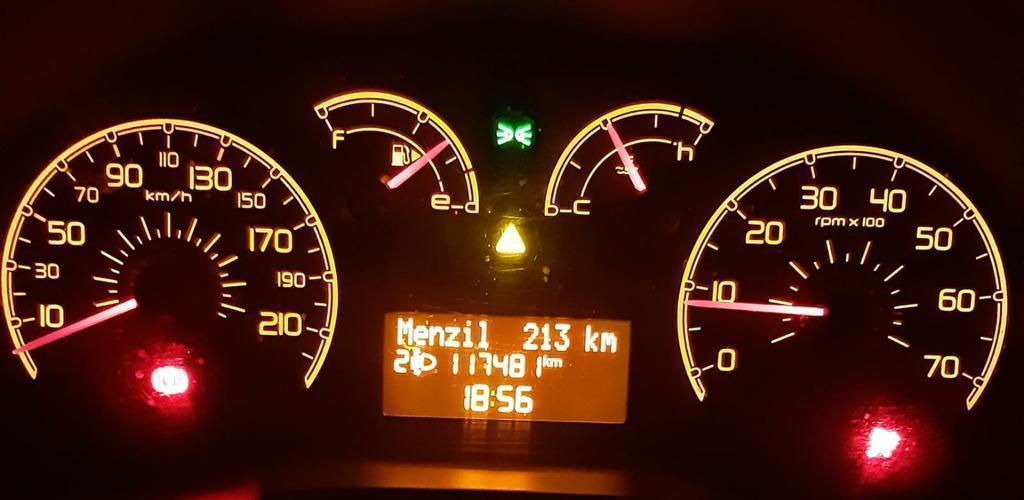1: (540, 321, 552, 352), (449, 351, 461, 376), (461, 383, 470, 411), (466, 350, 475, 376), (533, 354, 542, 378)
2: (520, 321, 539, 351), (391, 348, 409, 374)
3: (553, 321, 571, 352)
4: (492, 353, 508, 377)
5: (496, 383, 514, 414)
6: (515, 384, 534, 414)
7: (477, 350, 492, 377)
8: (470, 382, 489, 412), (509, 352, 525, 378)
X: (394, 314, 413, 346), (582, 322, 598, 353), (475, 317, 490, 349), (444, 324, 461, 348), (600, 330, 617, 353), (462, 318, 474, 349), (428, 324, 444, 347), (414, 323, 428, 346), (489, 388, 496, 409), (550, 356, 562, 368), (543, 355, 550, 367)
odometer: (379, 308, 634, 427)
